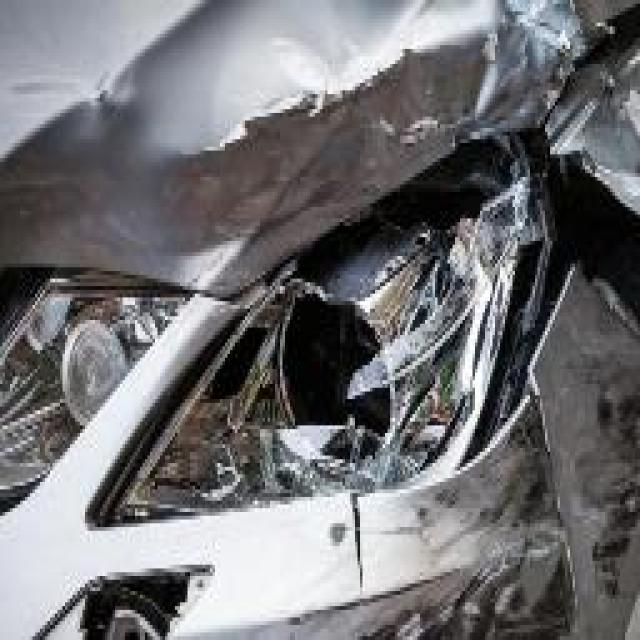Bonnet: (0, 0, 637, 289)
Fender: (539, 0, 640, 327)
Light: (82, 141, 570, 506)
